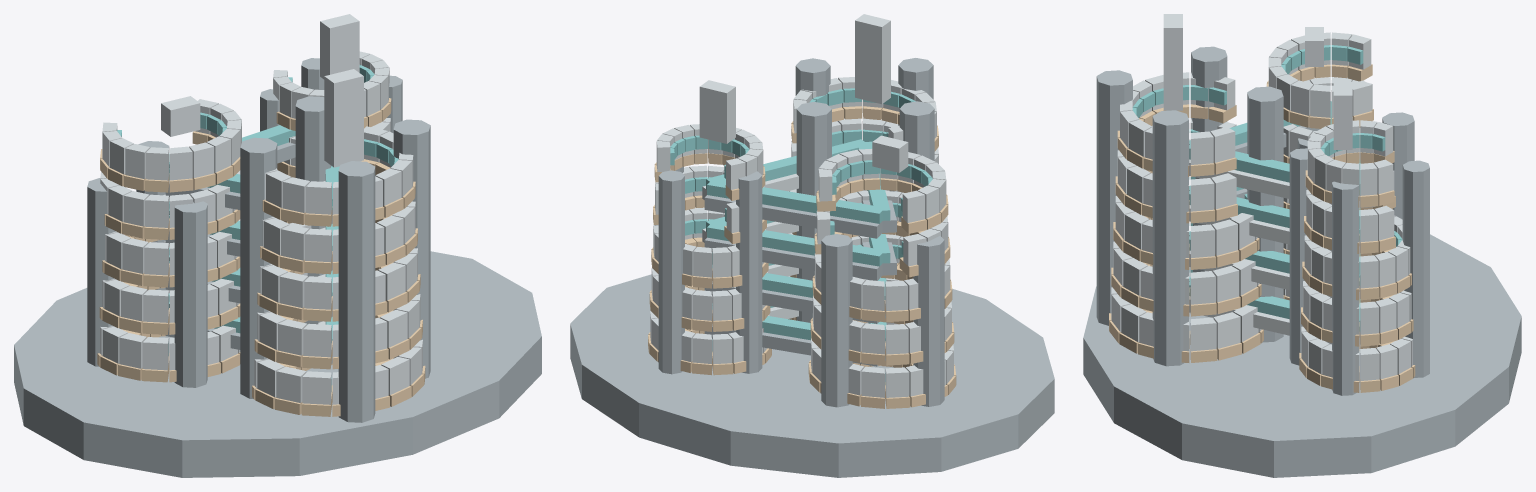
The model's file is a19_c_porous_agora.glb.
3 views of the same model, side by side, from view 1: azimuth 30°, elevation 25°; view 2: azimuth 150°, elevation 25°; view 3: azimuth 270°, elevation 25° (orthographic). The views are drawn at different scales.
Parts seen in each view (by area): view 1: G4C7_A19_SCOUT_ART_HOLD; view 2: G4C7_A19_SCOUT_ART_HOLD; view 3: G4C7_A19_SCOUT_ART_HOLD.
Boxes of the visible parts, x1=… form: G4C7_A19_SCOUT_ART_HOLD: x1=14, y1=14, x2=541, y2=477; G4C7_A19_SCOUT_ART_HOLD: x1=570, y1=14, x2=1054, y2=477; G4C7_A19_SCOUT_ART_HOLD: x1=1083, y1=14, x2=1521, y2=477.
Bounding box in the file's own units: 226 × 158 × 183.
